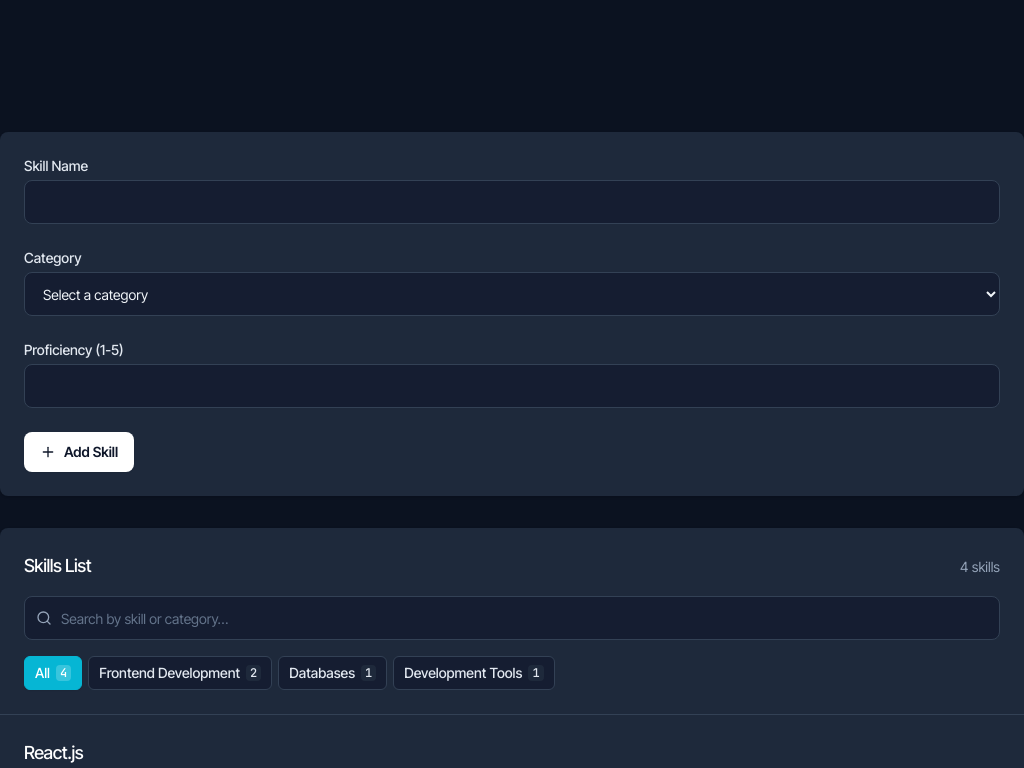
Test: AdminSkillsPage filtering › shows a filtered count against the total
Check: the text "4 skills" is shown, box [960, 557, 1000, 577]
Click the button "Databases 1".
click(333, 673)  # box [278, 656, 387, 690]
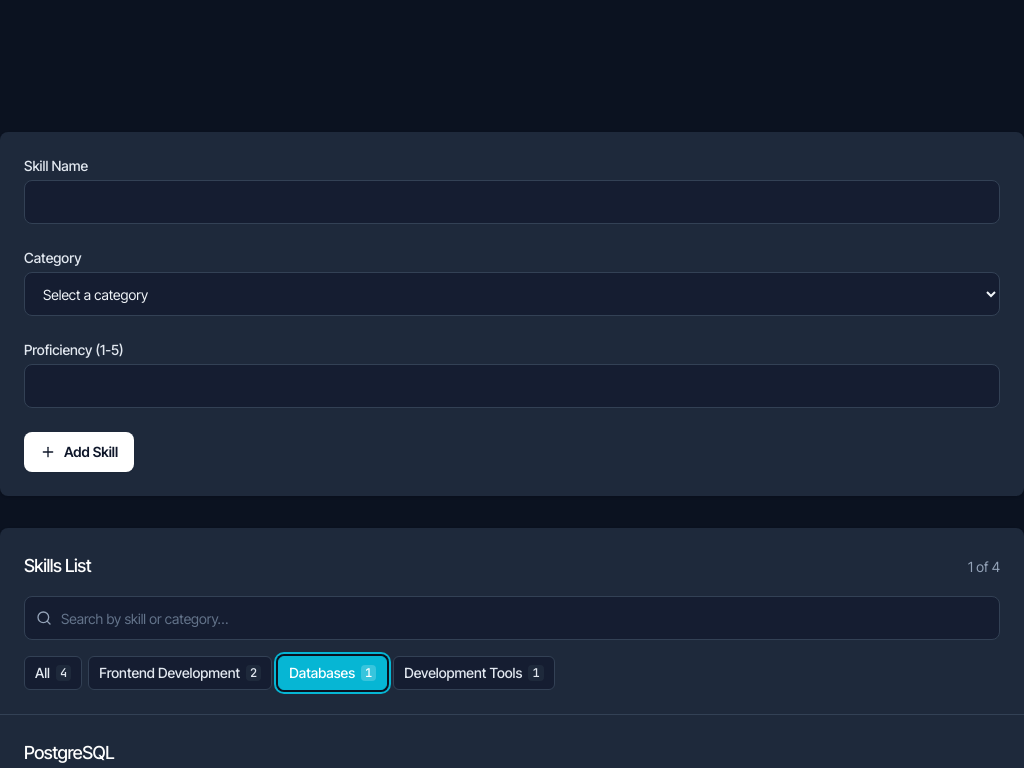
Check: the text "1 of 4" is shown, box [968, 557, 1000, 577]
